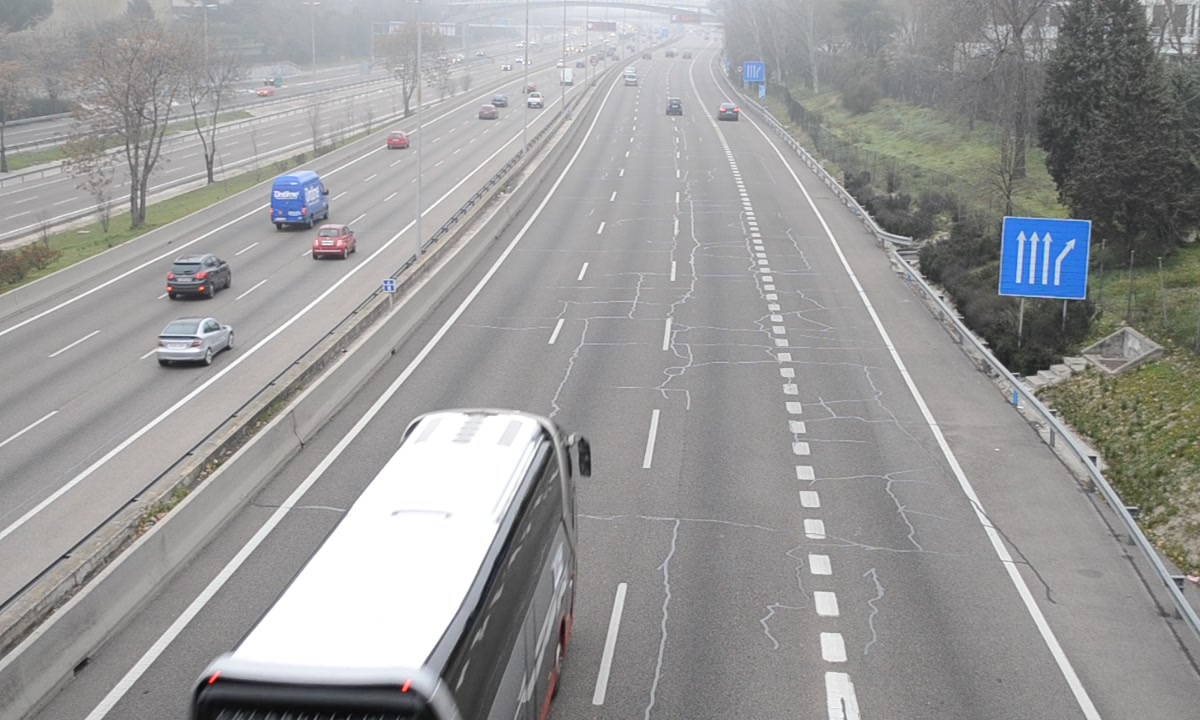bus: (196, 410, 570, 717)
car: (716, 103, 739, 123), (665, 97, 685, 118)
